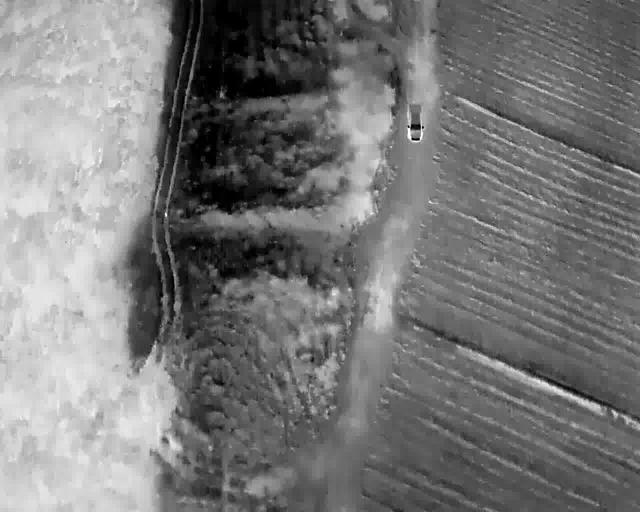car: (406, 102, 424, 142)
